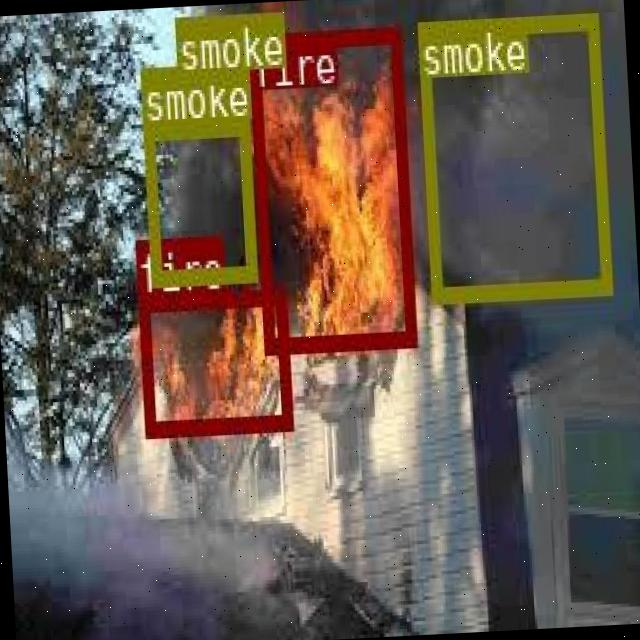fire: (247, 25, 414, 350), (136, 287, 290, 433)
smoke: (418, 10, 610, 299), (143, 116, 255, 284), (173, 13, 245, 84)
